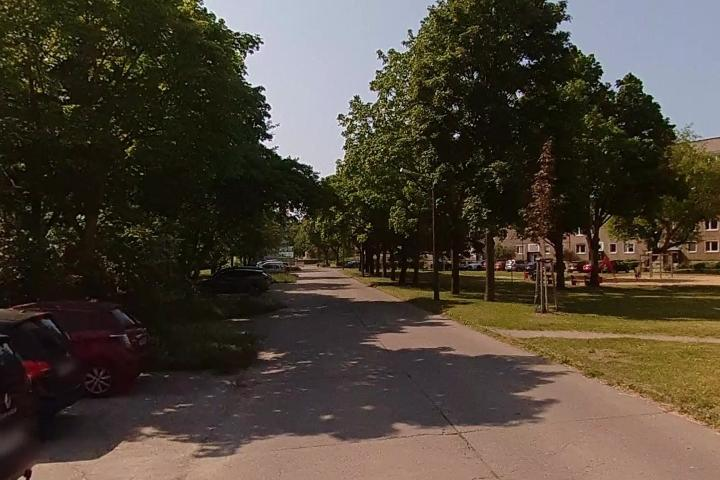vehicle: (183, 264, 272, 298)
